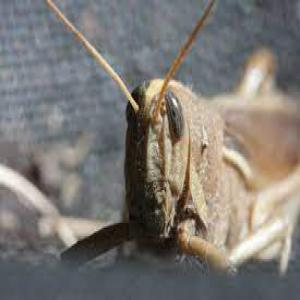locust: (98, 18, 300, 300)
